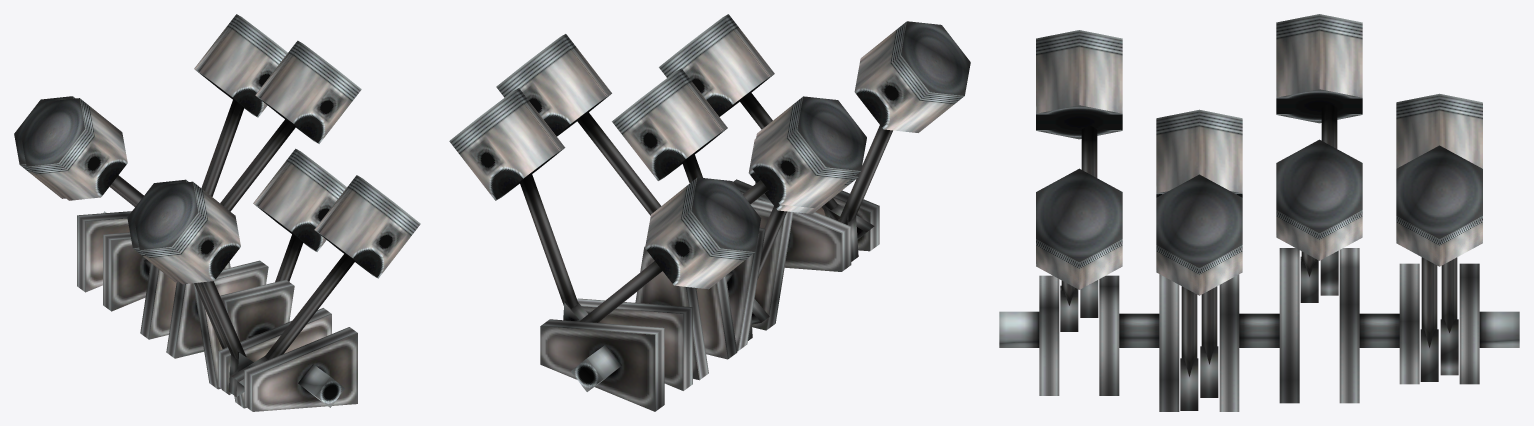
Rendered from GTR400.icn.obj.
The picture shows the model from 3 angles, left to right: view 1: azimuth 30°, elevation 25°; view 2: azimuth 150°, elevation 25°; view 3: azimuth 270°, elevation 25°; orthographic projection. The views are drawn at different scales.
Bounding box in the file's own units: 3.75 × 3.08 × 4.45.
1 material, 1 textured.
